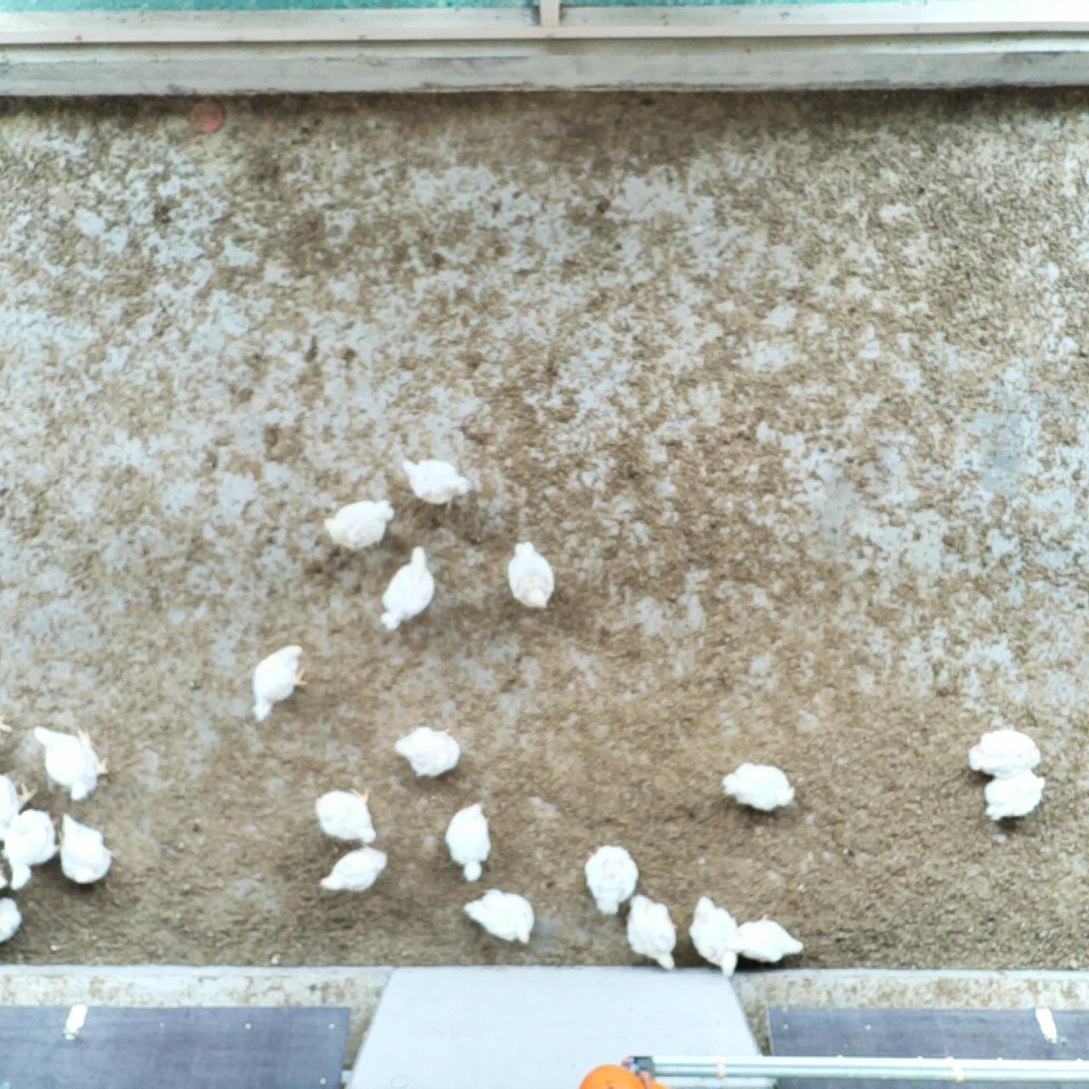chicken: (30, 721, 115, 804), (378, 543, 443, 634), (247, 641, 314, 727), (621, 891, 684, 975), (1, 806, 62, 892), (461, 883, 536, 952), (55, 809, 117, 889), (719, 756, 797, 819), (398, 451, 475, 514), (688, 891, 743, 979), (580, 840, 641, 919), (441, 797, 494, 883), (318, 496, 396, 554), (312, 783, 382, 845), (391, 720, 463, 780), (965, 725, 1046, 778), (503, 537, 558, 614), (731, 914, 808, 966), (318, 844, 391, 898), (979, 767, 1048, 824), (0, 769, 37, 845), (0, 895, 26, 950)
